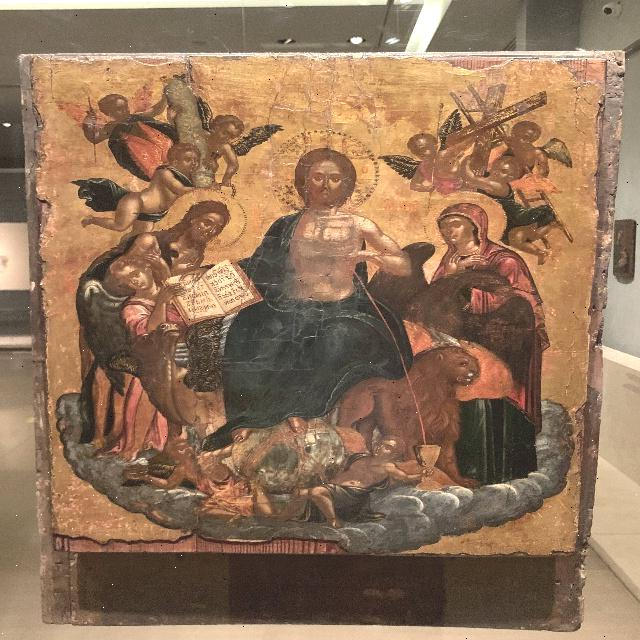angel: (51, 80, 174, 168), (462, 156, 569, 245), (87, 139, 213, 201), (195, 95, 273, 186), (387, 122, 476, 191), (496, 119, 573, 167)
aura: (272, 133, 383, 211), (420, 193, 505, 247), (167, 192, 247, 244)
blood: (344, 256, 450, 460)
book: (164, 267, 256, 309)
christ: (250, 118, 412, 407)
cross: (447, 84, 543, 169)
eagle: (368, 242, 543, 366)
lion: (350, 349, 490, 451)
mary: (421, 207, 543, 469)
orb: (232, 418, 345, 490)
saint: (77, 200, 234, 447)
wing: (233, 115, 282, 159), (54, 93, 107, 129), (117, 77, 162, 115), (191, 80, 213, 126)
